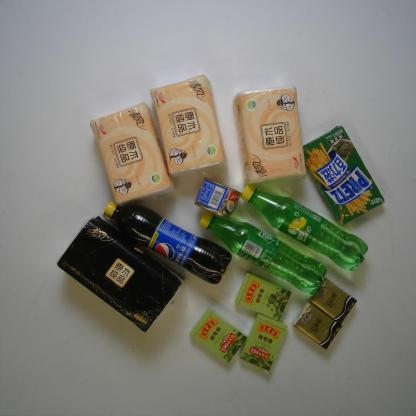Candy: (188, 307, 248, 363), (238, 312, 289, 373), (234, 272, 293, 322)
Canned Food: (193, 176, 242, 219)
Dessert: (301, 124, 386, 226)
Drink: (240, 184, 369, 272), (198, 210, 329, 296), (102, 200, 232, 286)
Tissue: (56, 212, 186, 333), (90, 101, 176, 208), (150, 73, 228, 177), (231, 86, 308, 187), (306, 276, 358, 326), (292, 300, 343, 350)
